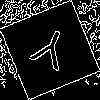Y: (25, 25, 73, 80)
